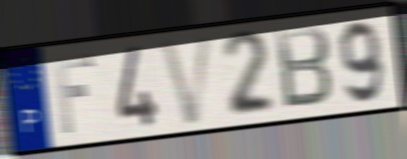2: (219, 28, 278, 123)
4: (115, 41, 161, 131)
9: (336, 17, 388, 105)
B: (273, 23, 335, 112)
F: (51, 52, 97, 137)
V: (157, 31, 218, 128)
